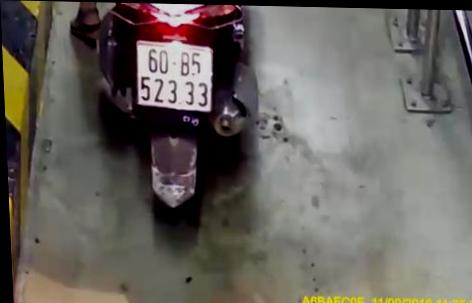License_Plate: (129, 38, 224, 113)
